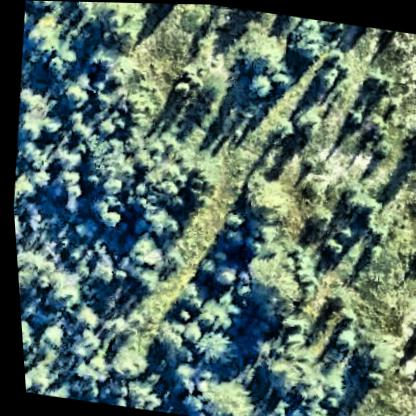tree-top: (239, 251, 302, 309), (186, 372, 254, 416), (231, 23, 289, 74), (233, 174, 286, 222), (22, 10, 70, 62), (100, 337, 147, 383), (186, 325, 230, 368), (188, 293, 233, 335), (298, 366, 341, 407), (122, 232, 164, 273), (138, 205, 182, 242), (257, 355, 297, 395), (63, 321, 102, 362), (348, 341, 386, 378), (287, 101, 323, 139), (338, 186, 377, 221), (287, 31, 323, 68), (95, 2, 136, 32), (149, 170, 186, 203), (65, 301, 98, 334), (28, 320, 62, 352), (55, 77, 89, 108), (151, 325, 181, 360), (49, 146, 83, 176), (126, 263, 158, 294), (364, 130, 395, 162), (361, 66, 394, 96), (204, 259, 236, 289), (91, 203, 124, 232), (272, 309, 307, 336), (172, 317, 203, 347), (12, 137, 40, 170), (241, 68, 271, 98), (326, 324, 356, 354), (13, 247, 40, 278), (10, 171, 38, 200), (84, 258, 112, 287), (16, 114, 45, 142), (89, 46, 118, 74), (46, 281, 76, 308), (19, 361, 43, 394), (24, 162, 52, 190), (41, 49, 69, 77), (15, 84, 42, 112), (313, 233, 342, 258), (168, 76, 194, 101), (96, 173, 123, 197), (25, 0, 63, 16), (62, 106, 86, 131), (55, 191, 79, 215), (402, 111, 416, 152), (17, 316, 34, 349), (92, 114, 115, 136), (342, 105, 365, 125), (39, 382, 66, 398), (288, 406, 330, 416), (11, 212, 24, 242), (362, 406, 397, 416), (247, 408, 277, 416)
